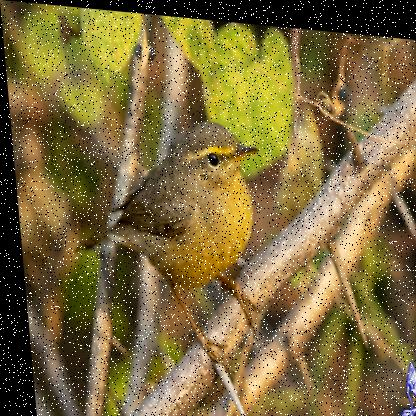Burung: (69, 106, 276, 374)
